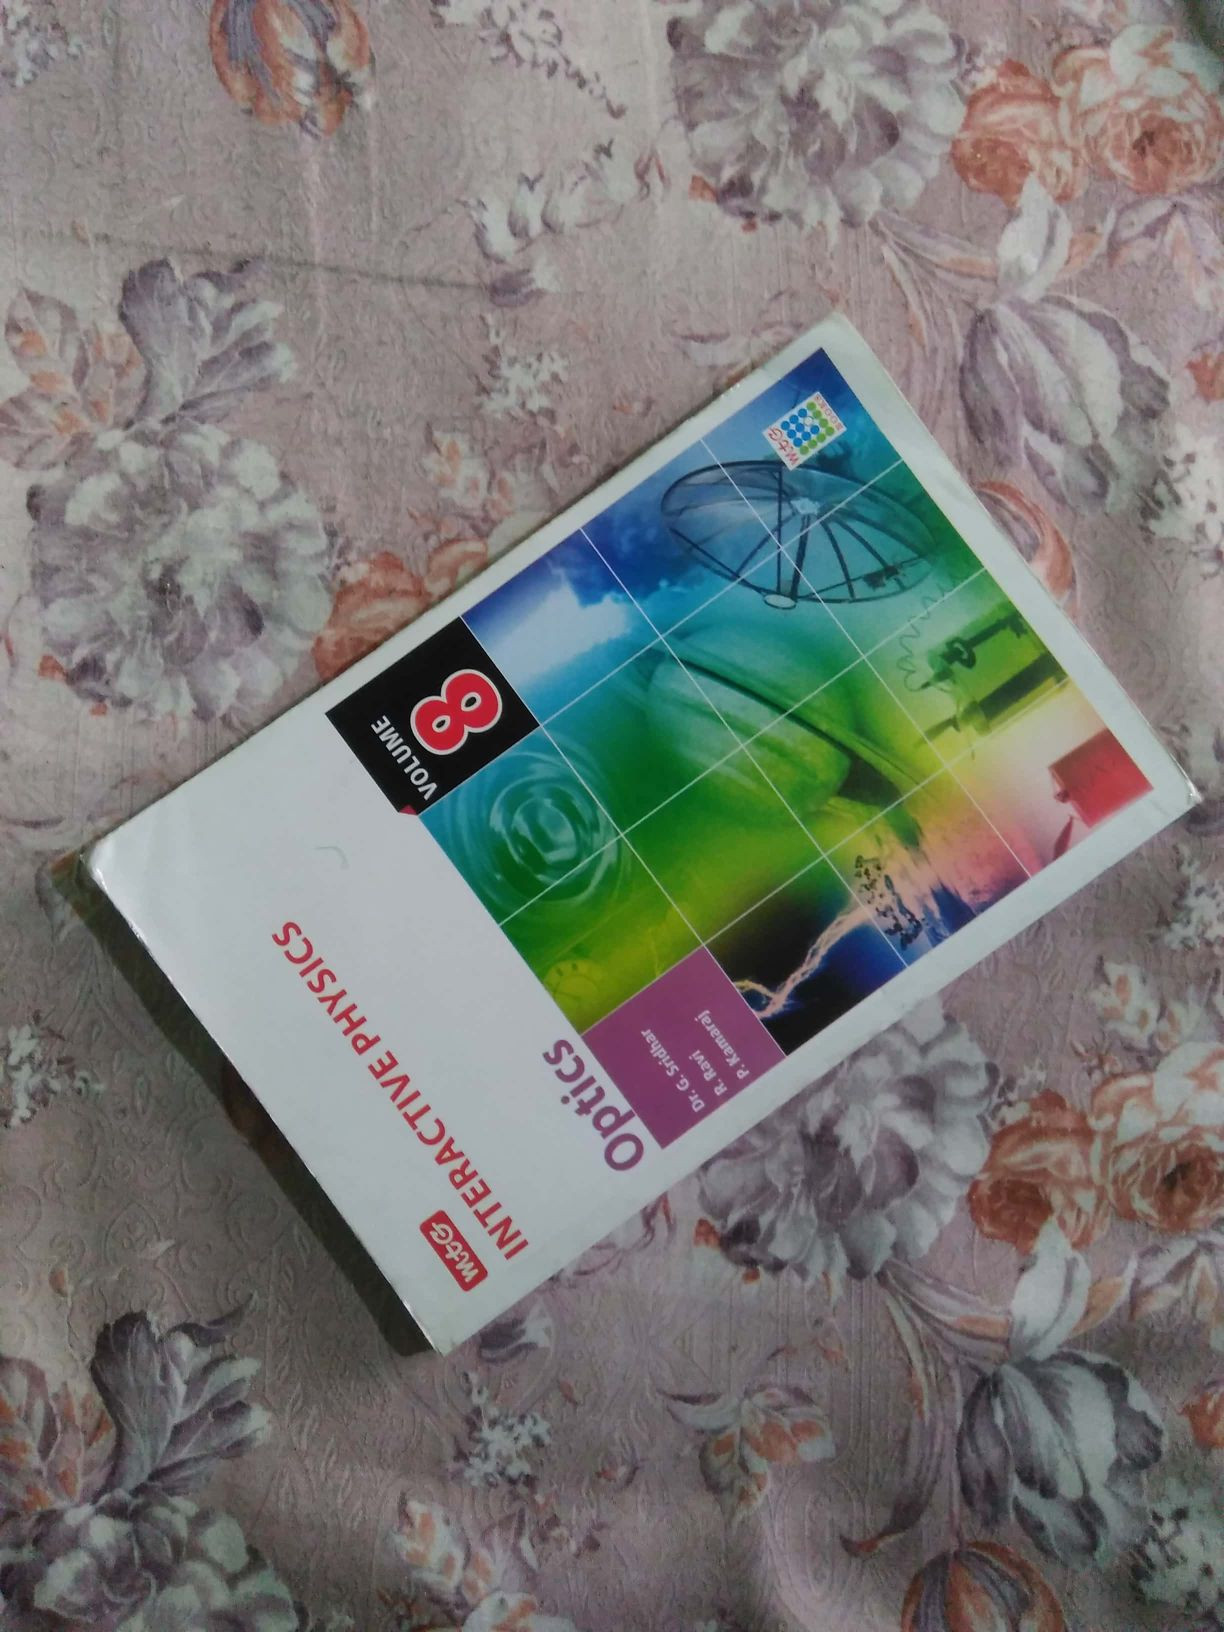optics: (131, 314, 1182, 1381)
